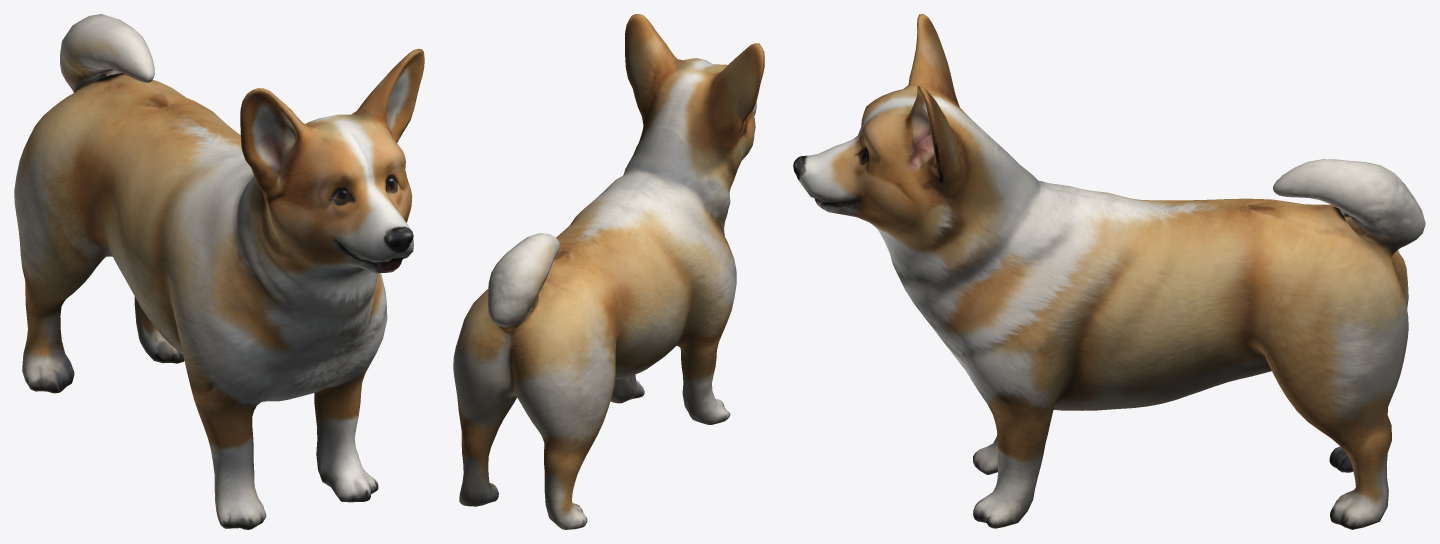
File: Corgi.obj
3 renders of one model, left to right at view 1: azimuth 30°, elevation 25°; view 2: azimuth 150°, elevation 25°; view 3: azimuth 270°, elevation 25°, orthographic. The views are drawn at different scales.
Parts seen in each view (by area): view 1: Corgi; view 2: Corgi; view 3: Corgi.
Part boxes in pixels (<box>): Corgi: <box>14,14,424,529</box>; Corgi: <box>453,14,764,529</box>; Corgi: <box>793,14,1425,529</box>.
Bounding box in the file's own units: 64.57 × 156 × 200.
1 material, 1 textured.
